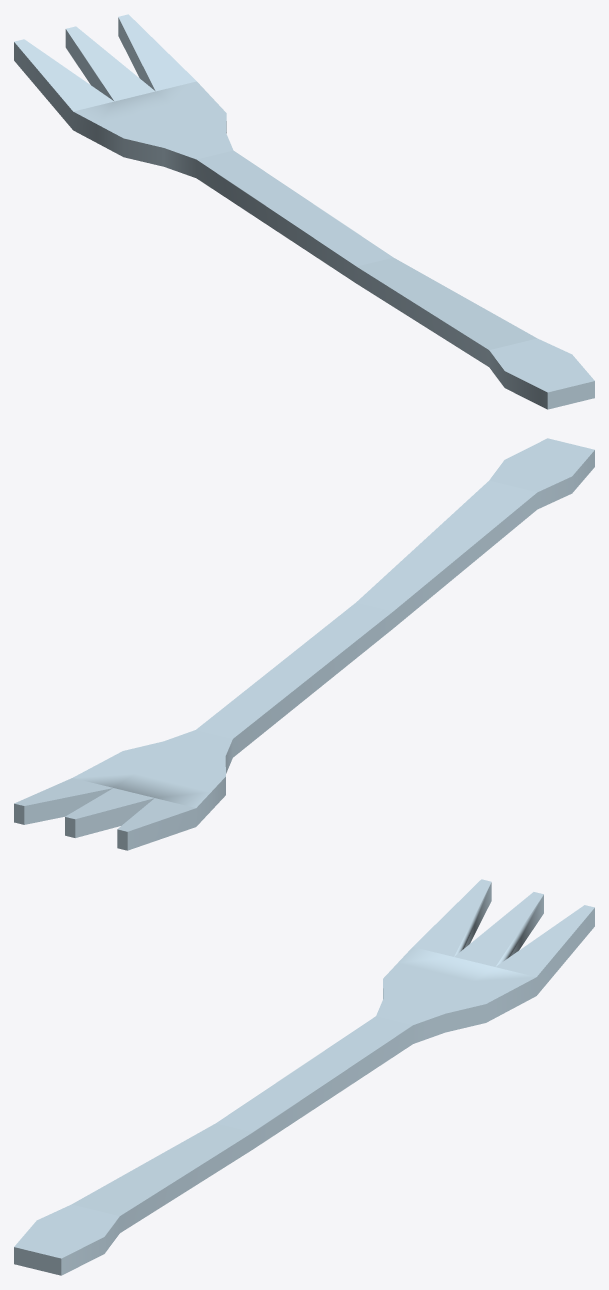
The model's file is SM_fork.fbx.
The picture shows the model from 3 angles, top to bottom: view 1: azimuth 30°, elevation 25°; view 2: azimuth 150°, elevation 25°; view 3: azimuth 330°, elevation 25°; orthographic projection.
Visible parts, largest first — view 1: fork; view 2: fork; view 3: fork.
Part boxes in pixels (x1,y1,x2,y2): fork: [14, 14, 594, 409]; fork: [14, 438, 594, 850]; fork: [14, 879, 594, 1275].
Bounding box in the file's own units: 7.02 × 2.6 × 49.21.
